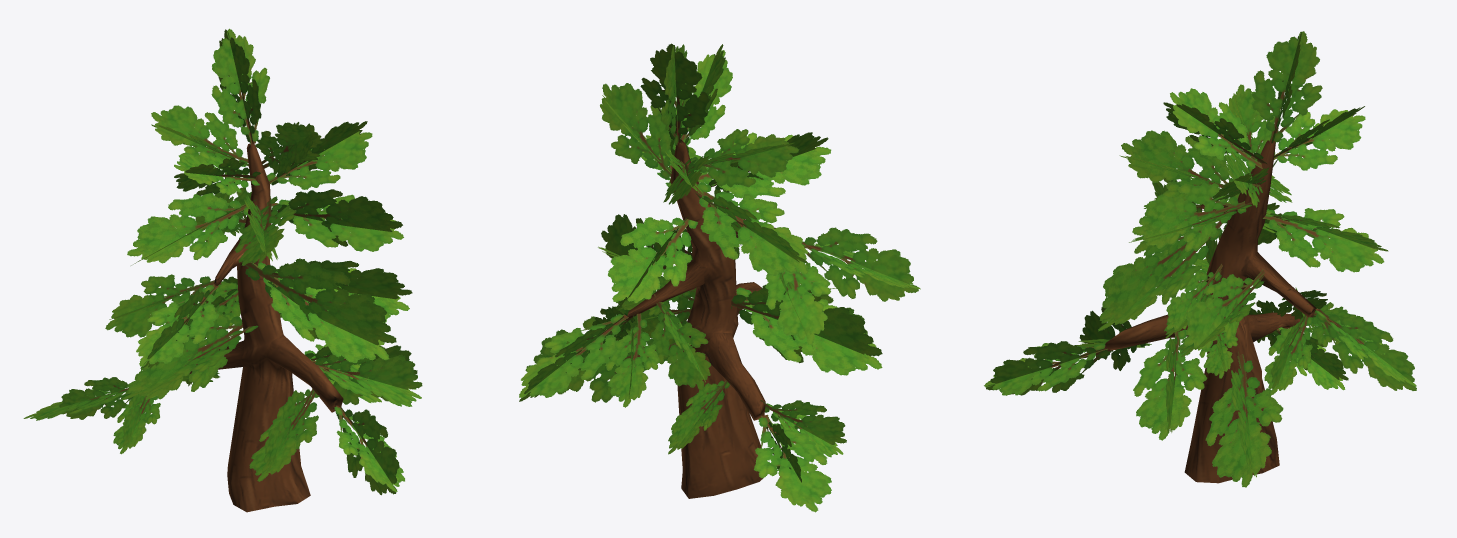
Rendered from tree3_01.fbx.
The picture shows the model from 3 angles, left to right: view 1: azimuth 30°, elevation 25°; view 2: azimuth 150°, elevation 25°; view 3: azimuth 270°, elevation 25°; orthographic projection. The views are drawn at different scales.
Parts seen in each view (by area): view 1: polySurface3, pPlane60, pPlane26, pPlane61, pPlane30, pPlane53, pPlane1, pPlane15, pPlane56, pPlane10, pPlane25, pPlane80 (+25 smaller); view 2: polySurface3, pPlane34, pPlane27, pPlane11, pPlane24, pPlane6, pPlane4, pPlane52, pPlane57, pPlane19, pPlane1, pPlane53 (+20 smaller); view 3: polySurface3, pPlane84, pPlane3, pPlane30, pPlane28, pPlane35, pPlane81, pPlane60, pPlane5, pPlane16, pPlane21, pPlane63 (+24 smaller).
Part boxes in pixels (x1,y1,x2,y2): polySurface3: [189, 143, 343, 512]; pPlane60: [241, 258, 396, 345]; pPlane26: [127, 193, 248, 263]; pPlane61: [251, 262, 389, 362]; pPlane30: [271, 189, 402, 246]; pPlane53: [127, 309, 242, 399]; pPlane1: [211, 28, 269, 144]; pPlane15: [151, 105, 248, 166]; pPlane56: [105, 274, 221, 337]; pPlane10: [136, 284, 219, 366]; pPlane25: [267, 131, 372, 189]; pPlane80: [315, 345, 422, 404]; polySurface3: [625, 139, 775, 498]; pPlane34: [608, 217, 697, 302]; pPlane27: [697, 182, 808, 276]; pPlane11: [802, 227, 918, 301]; pPlane24: [600, 83, 672, 179]; pPlane6: [754, 414, 831, 512]; pPlane4: [519, 314, 628, 397]; pPlane52: [736, 287, 882, 375]; pPlane57: [765, 262, 830, 345]; pPlane19: [690, 129, 799, 187]; pPlane1: [640, 43, 709, 143]; pPlane53: [731, 284, 882, 363]; polySurface3: [1105, 140, 1315, 483]; pPlane84: [1205, 354, 1283, 487]; pPlane3: [1252, 31, 1322, 143]; pPlane30: [1132, 182, 1246, 251]; pPlane28: [1121, 130, 1239, 200]; pPlane35: [1263, 208, 1384, 272]; pPlane81: [1133, 329, 1207, 440]; pPlane60: [1099, 222, 1216, 323]; pPlane5: [1315, 309, 1416, 390]; pPlane16: [1274, 109, 1365, 170]; pPlane21: [1170, 88, 1262, 168]; pPlane63: [1184, 269, 1264, 350].
Size of the model in its own units: 714 by 783 by 757.
